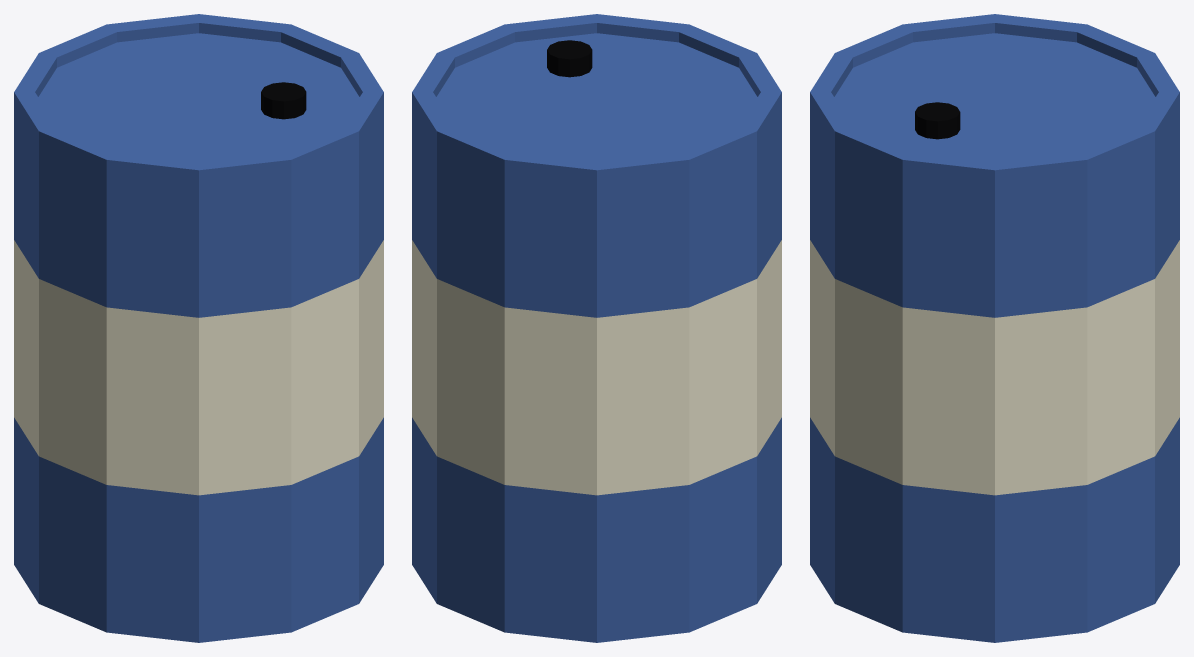
File: barrilBleu.fbx
3 views of the same model, side by side, from view 1: azimuth 30°, elevation 25°; view 2: azimuth 150°, elevation 25°; view 3: azimuth 270°, elevation 25° (orthographic).
Visible parts, largest first — view 1: Cylinder.016; view 2: Cylinder.016; view 3: Cylinder.016.
Boxes of the visible parts, x1=… form: Cylinder.016: x1=14, y1=14, x2=383, y2=642; Cylinder.016: x1=412, y1=14, x2=781, y2=642; Cylinder.016: x1=810, y1=14, x2=1179, y2=642.
Size of the model in its own units: 370 by 531 by 370.
Materials: 1 (1 with a texture image).
